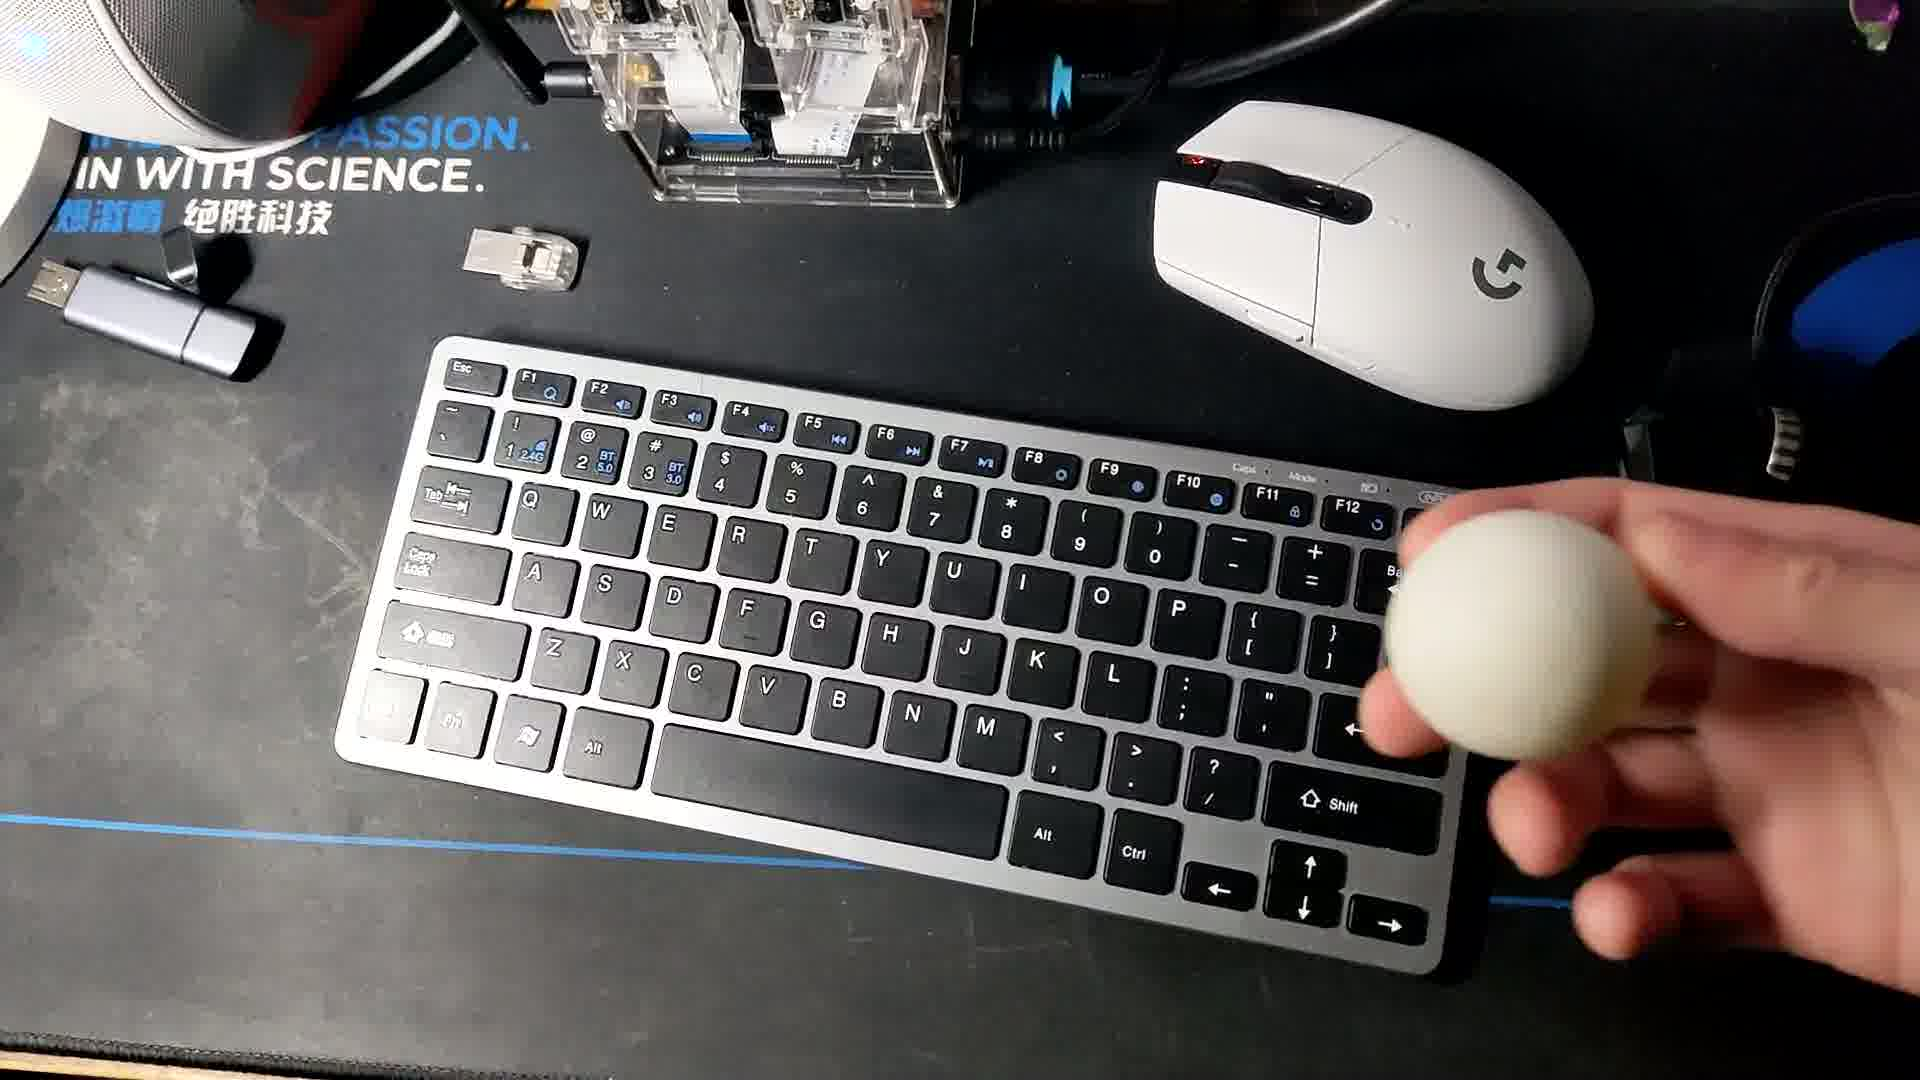Ball: (1382, 514, 1654, 758)
